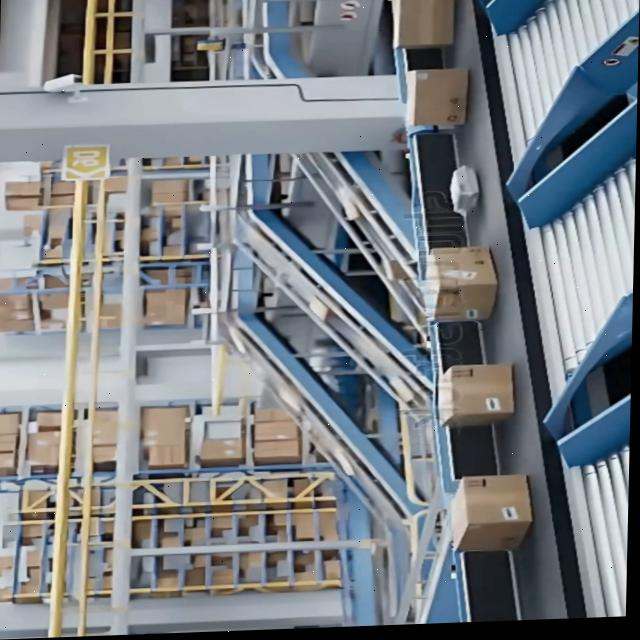product 1: (421, 244, 497, 323), (435, 363, 515, 428), (404, 67, 468, 127)
product 2: (446, 165, 479, 216)
